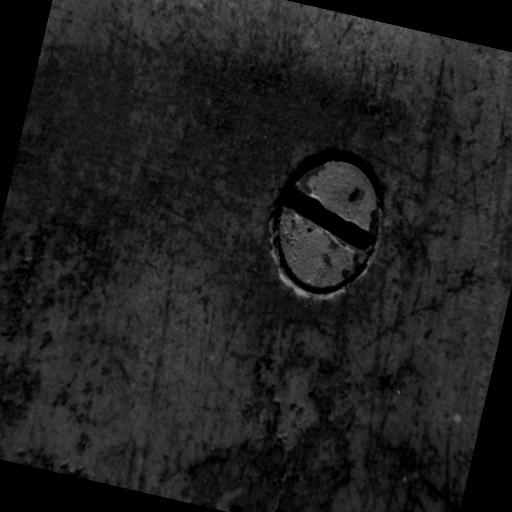Slotted: (254, 132, 397, 310)
